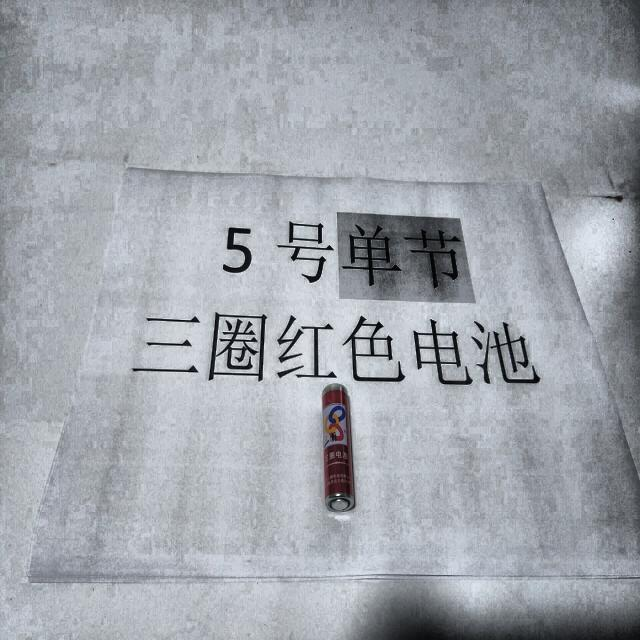Non-Valuable Waste - Batteries: (322, 383, 355, 512)
